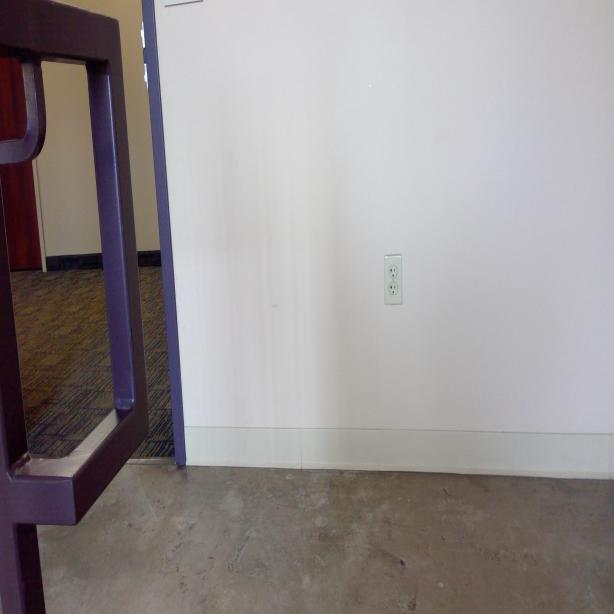typeb: (389, 264, 397, 278), (389, 282, 397, 296)
